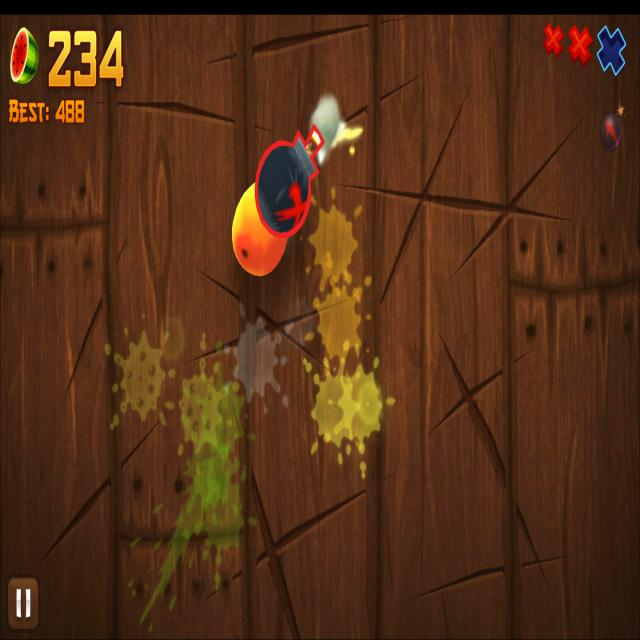bomb: (255, 122, 325, 238)
fruit: (231, 183, 288, 277)
